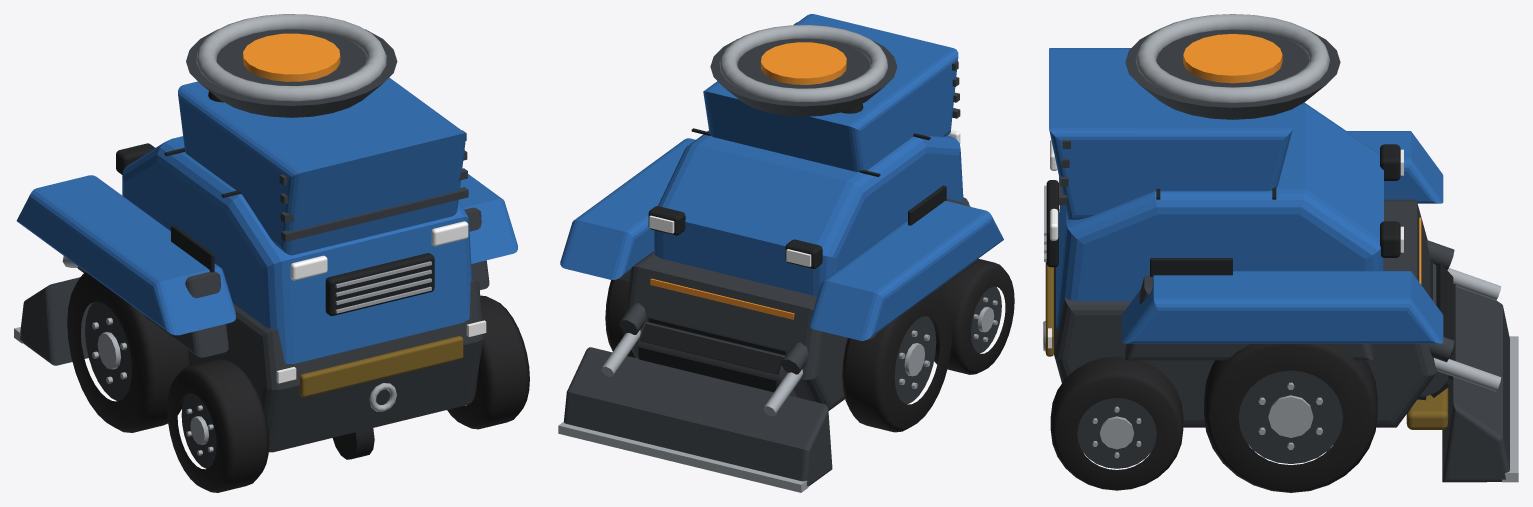
The model's file is Machine_magnet_T2.glb.
The picture shows the model from 3 angles, left to right: view 1: azimuth 30°, elevation 25°; view 2: azimuth 150°, elevation 25°; view 3: azimuth 270°, elevation 25°; orthographic projection. The views are drawn at different scales.
Visible parts, largest first — view 1: Tier2_Parts_MAT_Player_Shell_18, Body_Shell_0, Tier1_Parts_MAT_Player_Gunmetal_8, Axle_Rear_MAT_tread_14, Tier1_Parts_MAT_steel_10, Axle_Front_MAT_tread_5, Tier2_Parts_MAT_Player_Gunmetal_19, Tier1_Parts_MAT_darkTrim_9, Tier1_Parts_MAT_Player_Hazard_11, Tier1_Parts_MAT_Player_IntakeGlow_12, Axle_Front_MAT_Player_Gunmetal_6, Tier1_Parts_MAT_lamps_13 (+3 smaller); view 2: Tier2_Parts_MAT_Player_Shell_18, Body_Shell_0, Tier2_Parts_MAT_Player_Gunmetal_19, Tier1_Parts_MAT_Player_Gunmetal_8, Axle_Front_MAT_tread_5, Intake_Roller_MAT_darkTrim_2, Tier1_Parts_MAT_steel_10, Axle_Rear_MAT_tread_14, Tier2_Parts_MAT_steel_21, Tier1_Parts_MAT_Player_IntakeGlow_12, Tier1_Parts_MAT_darkTrim_9, Axle_Front_MAT_Player_Gunmetal_6 (+5 smaller); view 3: Tier2_Parts_MAT_Player_Shell_18, Body_Shell_0, Tier1_Parts_MAT_Player_Gunmetal_8, Axle_Front_MAT_tread_5, Tier2_Parts_MAT_Player_Gunmetal_19, Axle_Rear_MAT_tread_14, Tier1_Parts_MAT_steel_10, Axle_Front_MAT_Player_Gunmetal_6, Tier1_Parts_MAT_Player_IntakeGlow_12, Tier1_Parts_MAT_darkTrim_9, Axle_Rear_MAT_Player_Gunmetal_15, Tier2_Parts_MAT_steel_21 (+6 smaller).
Boxes of the visible parts, x1,y1,x2,y2 form: Tier2_Parts_MAT_Player_Shell_18: (16, 77, 517, 335); Body_Shell_0: (122, 136, 471, 363); Tier1_Parts_MAT_Player_Gunmetal_8: (77, 29, 489, 452); Axle_Rear_MAT_tread_14: (167, 295, 529, 492); Tier1_Parts_MAT_steel_10: (196, 14, 431, 411); Axle_Front_MAT_tread_5: (67, 272, 191, 432); Tier2_Parts_MAT_Player_Gunmetal_19: (20, 130, 468, 365); Tier1_Parts_MAT_darkTrim_9: (116, 143, 434, 459); Tier1_Parts_MAT_Player_Hazard_11: (299, 336, 463, 397); Tier1_Parts_MAT_Player_IntakeGlow_12: (243, 33, 340, 81); Axle_Front_MAT_Player_Gunmetal_6: (85, 301, 131, 401); Tier1_Parts_MAT_lamps_13: (276, 221, 486, 383); Tier2_Parts_MAT_Player_Shell_18: (560, 14, 1003, 340); Body_Shell_0: (654, 130, 963, 296); Tier2_Parts_MAT_Player_Gunmetal_19: (564, 22, 960, 486); Tier1_Parts_MAT_Player_Gunmetal_8: (618, 38, 978, 410); Axle_Front_MAT_tread_5: (605, 279, 951, 432); Intake_Roller_MAT_darkTrim_2: (638, 317, 786, 392); Tier1_Parts_MAT_steel_10: (719, 25, 887, 102); Axle_Rear_MAT_tread_14: (929, 259, 1014, 374); Tier2_Parts_MAT_steel_21: (558, 330, 808, 492); Tier1_Parts_MAT_Player_IntakeGlow_12: (650, 42, 846, 319); Tier1_Parts_MAT_darkTrim_9: (648, 128, 946, 268); Axle_Front_MAT_Player_Gunmetal_6: (894, 316, 936, 404); Tier2_Parts_MAT_Player_Shell_18: (1049, 48, 1443, 343); Body_Shell_0: (1056, 102, 1383, 328); Tier1_Parts_MAT_Player_Gunmetal_8: (1054, 29, 1437, 427); Axle_Front_MAT_tread_5: (1204, 343, 1377, 492); Tier2_Parts_MAT_Player_Gunmetal_19: (1059, 140, 1509, 482); Axle_Rear_MAT_tread_14: (1050, 356, 1183, 490); Tier1_Parts_MAT_steel_10: (1043, 14, 1329, 351); Axle_Front_MAT_Player_Gunmetal_6: (1238, 370, 1342, 463); Tier1_Parts_MAT_Player_IntakeGlow_12: (1183, 34, 1421, 284); Tier1_Parts_MAT_darkTrim_9: (1046, 144, 1400, 276); Axle_Rear_MAT_Player_Gunmetal_15: (1077, 398, 1156, 468); Tier2_Parts_MAT_steel_21: (1434, 268, 1518, 482).
Bounding box in the file's own units: 1 × 0.98 × 1.15.
